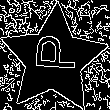P_W: (28, 39, 79, 80)
